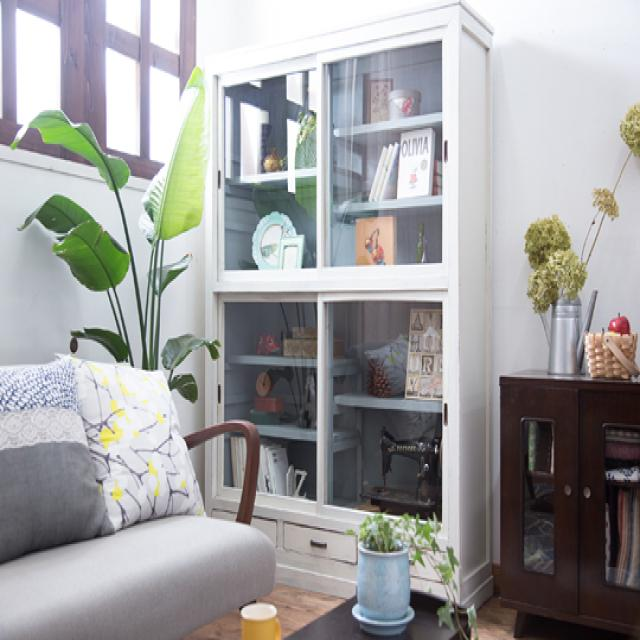white shelf: (206, 0, 494, 568)
white sofa: (0, 374, 283, 638)
